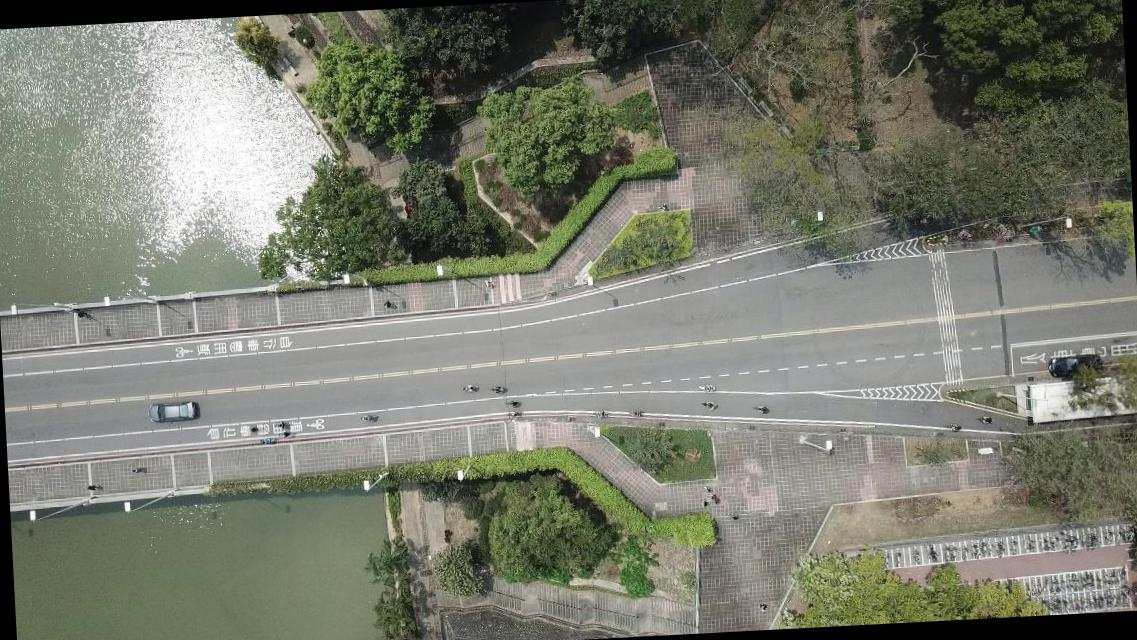vehicle: (1048, 353, 1102, 378), (148, 400, 198, 422)
